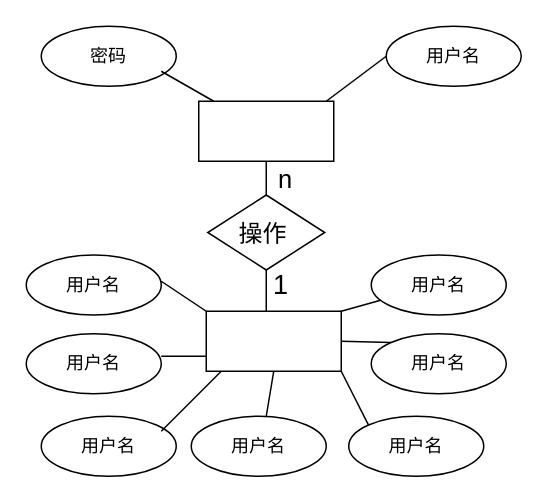
Some shapes in this 548 by 503 pixel diagram are drawn without their labels. The shapes that lost their labels are listed below. From the top down, each one's centre as x and y in pixels, then its label:
[265,130]: 用户
[273,340]: 试题库
